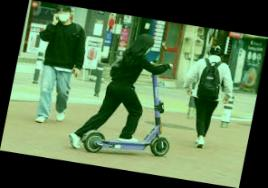nonhelmet: (65, 25, 191, 165)
